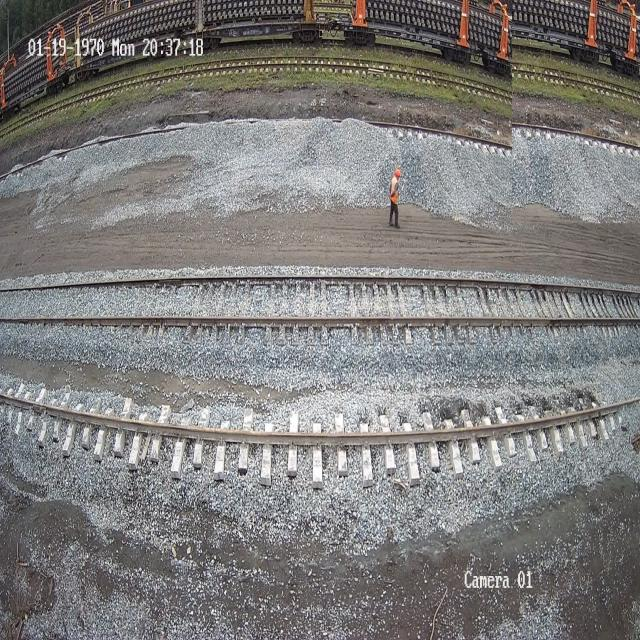Helmet: (395, 168, 400, 177)
Person: (388, 168, 401, 228)
